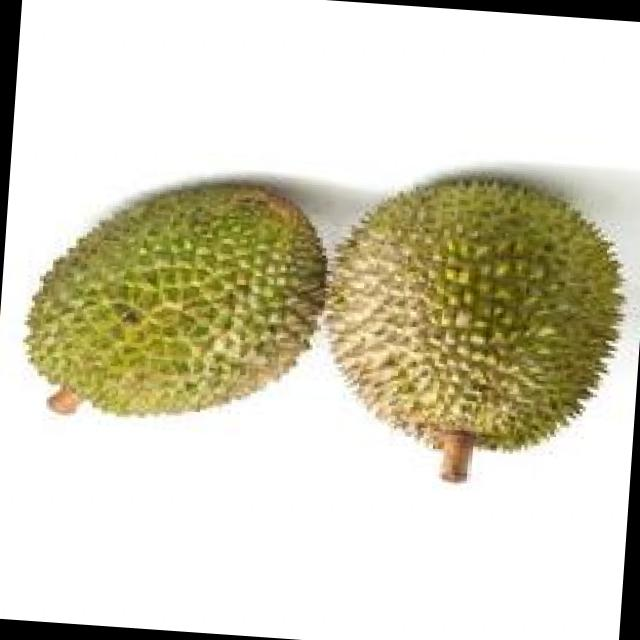fruit: (279, 128, 640, 489), (0, 136, 356, 461)
